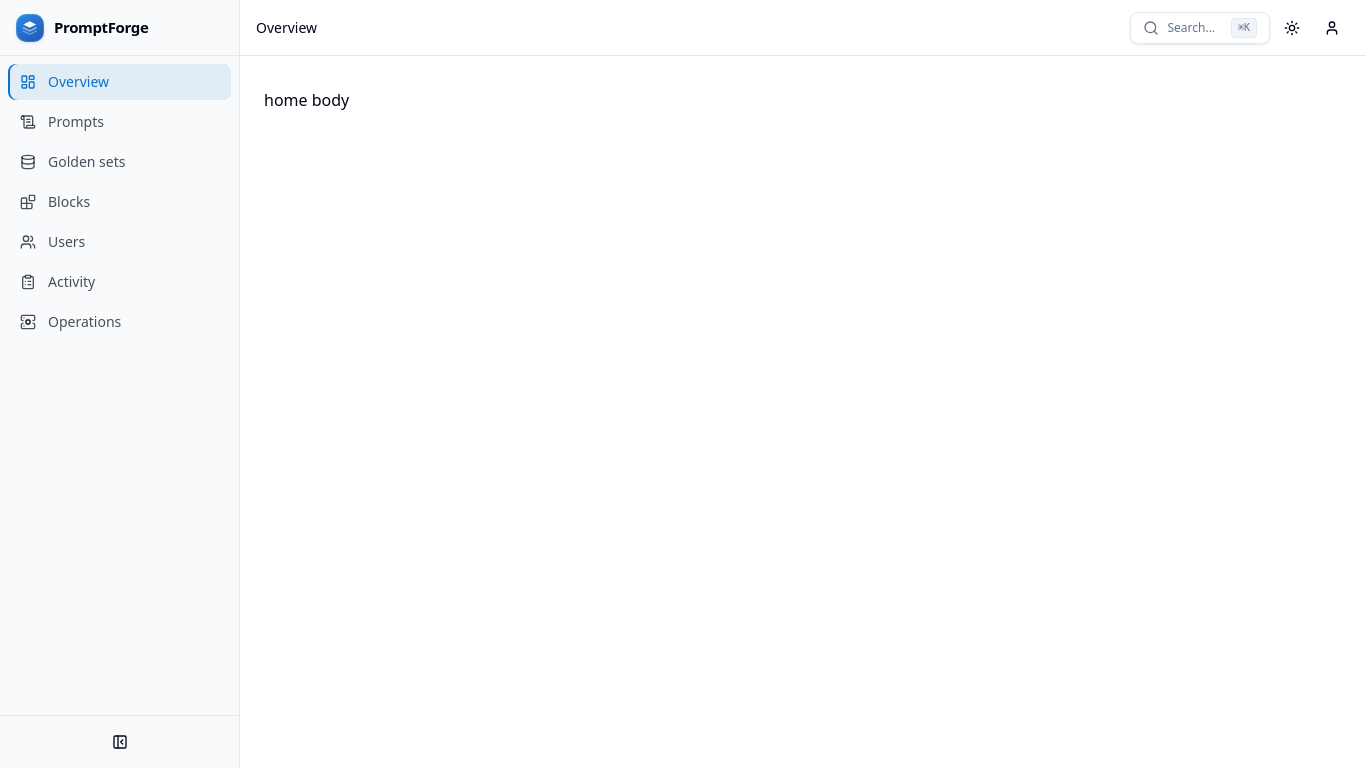
Test: AppLayout — admin-only nav gating › shows the current user's email and role in the user menu
Click the button named "user menu".
click(1332, 28)  # box [1314,10,1350,46]
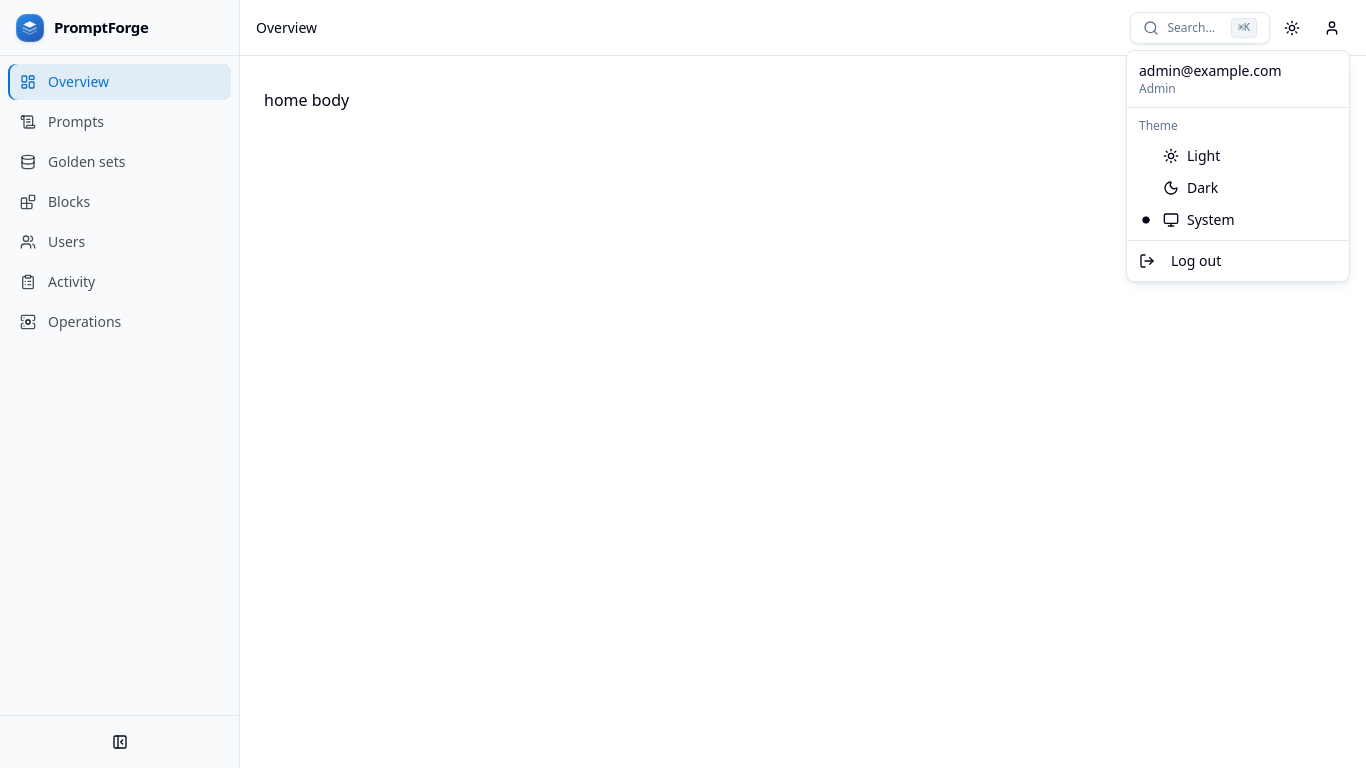
Expected: the text "admin@example.com" is shown, [1139,61,1282,80]
Expected: the text "admin" is shown, [1139,80,1176,97]
